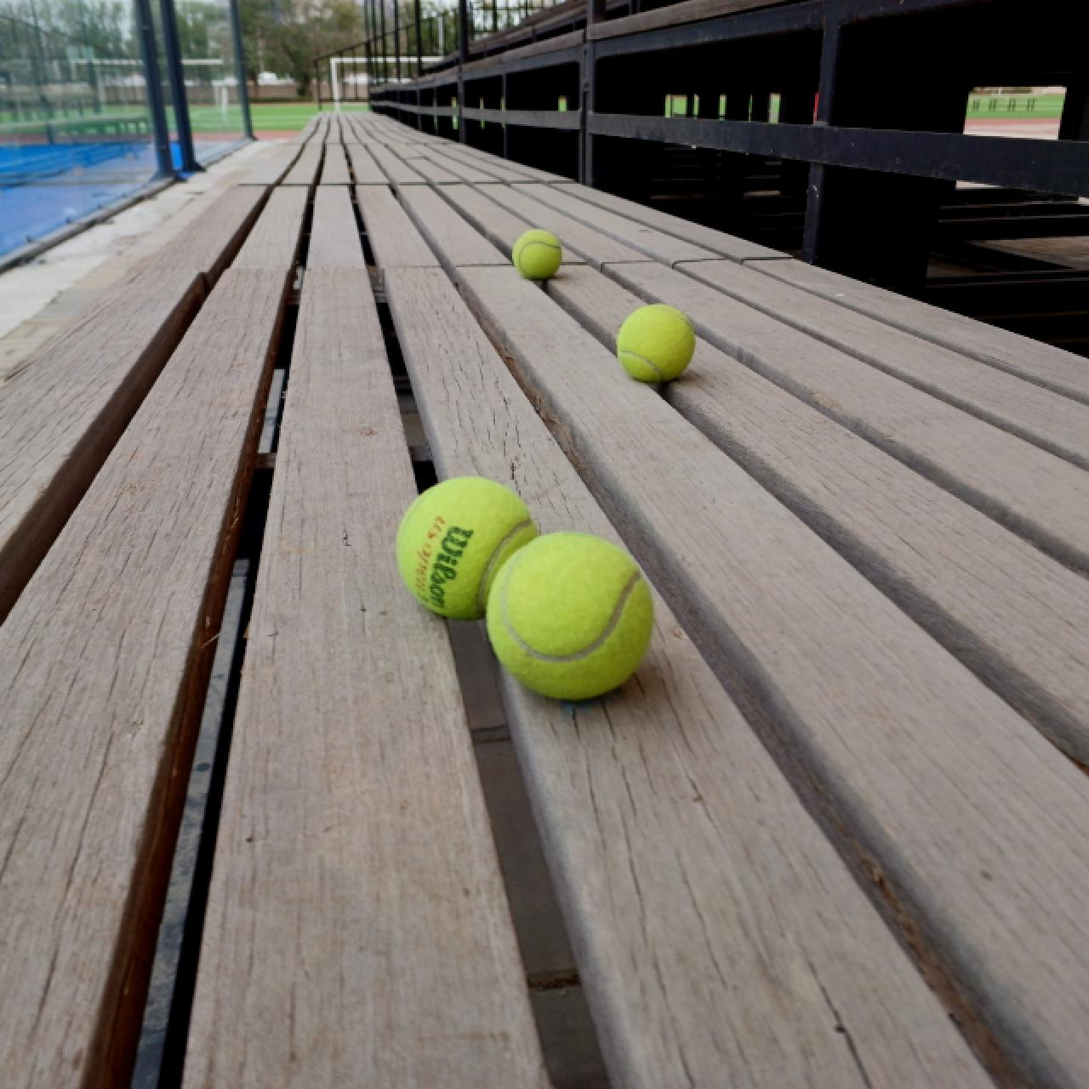tennis-ball: (482, 530, 654, 702), (394, 475, 538, 619), (614, 302, 696, 381), (510, 227, 566, 280)
